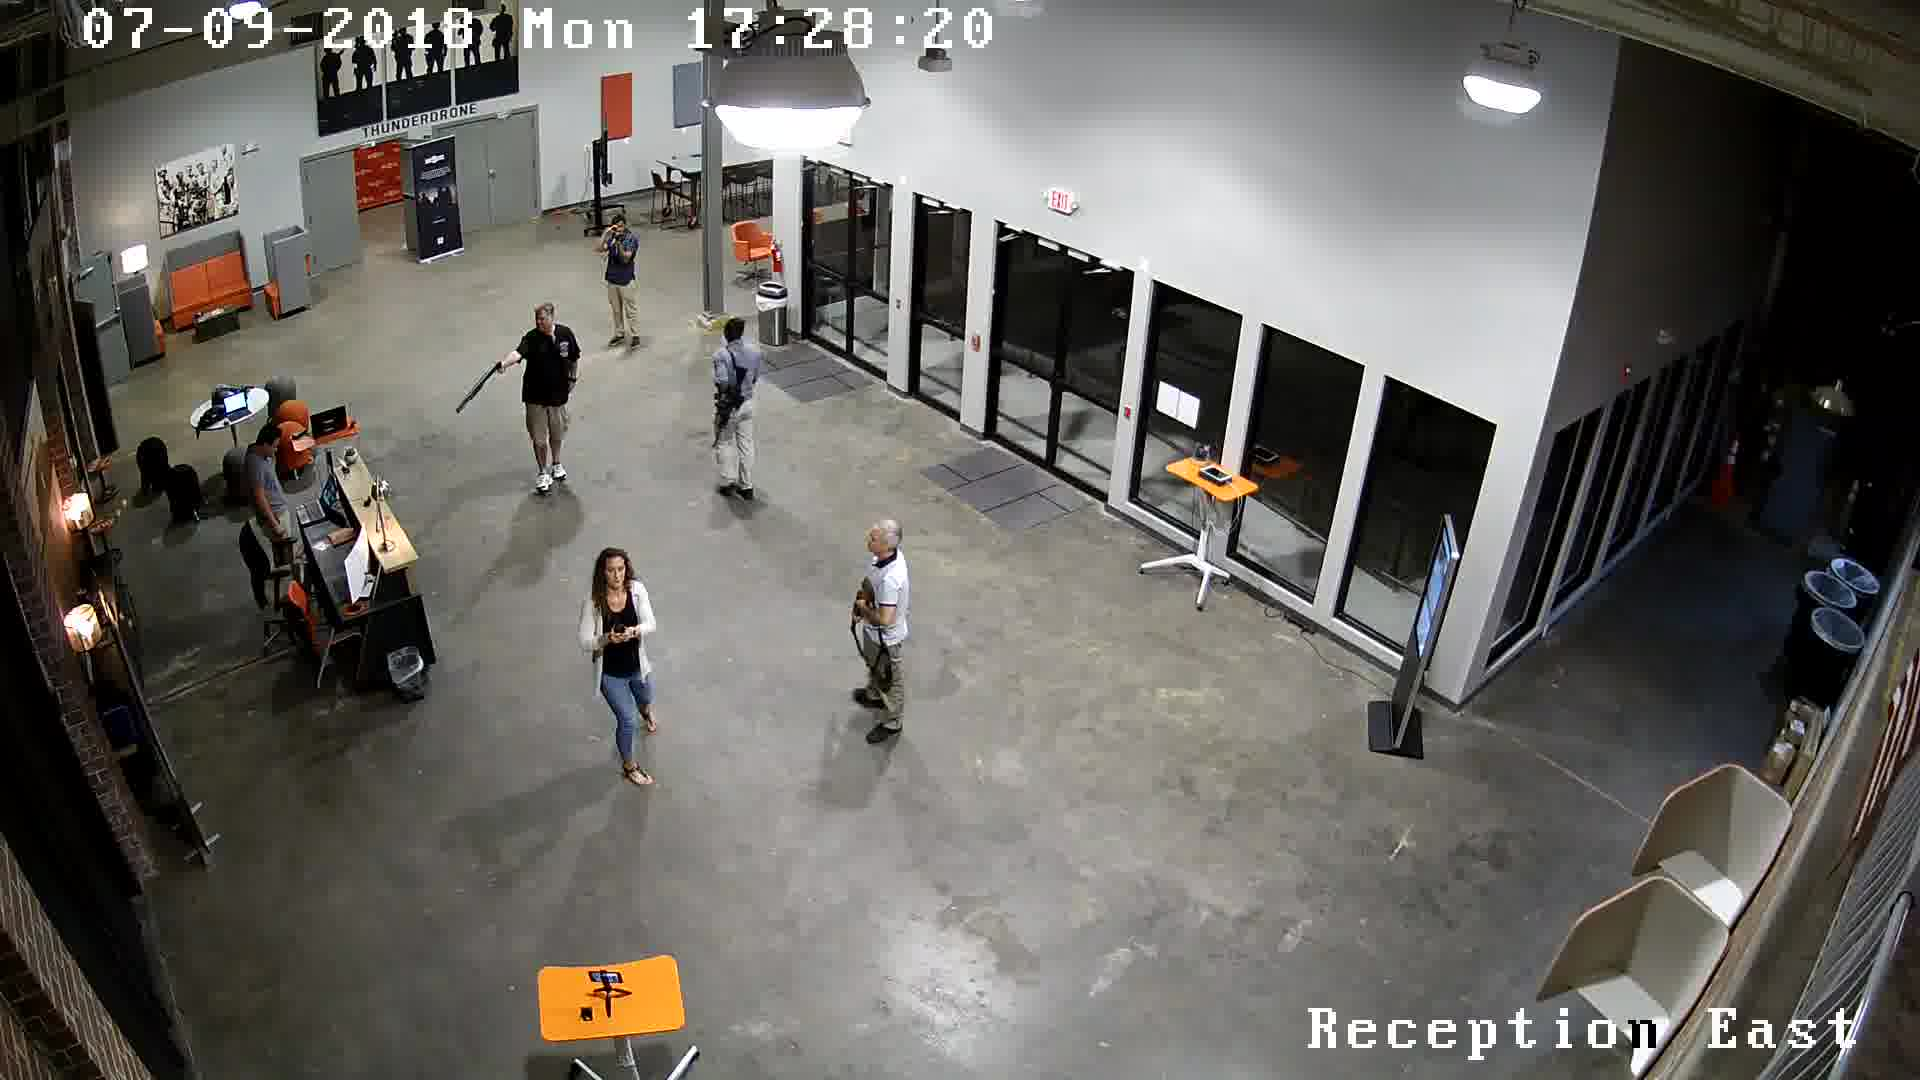pistol: (603, 622, 636, 651)
